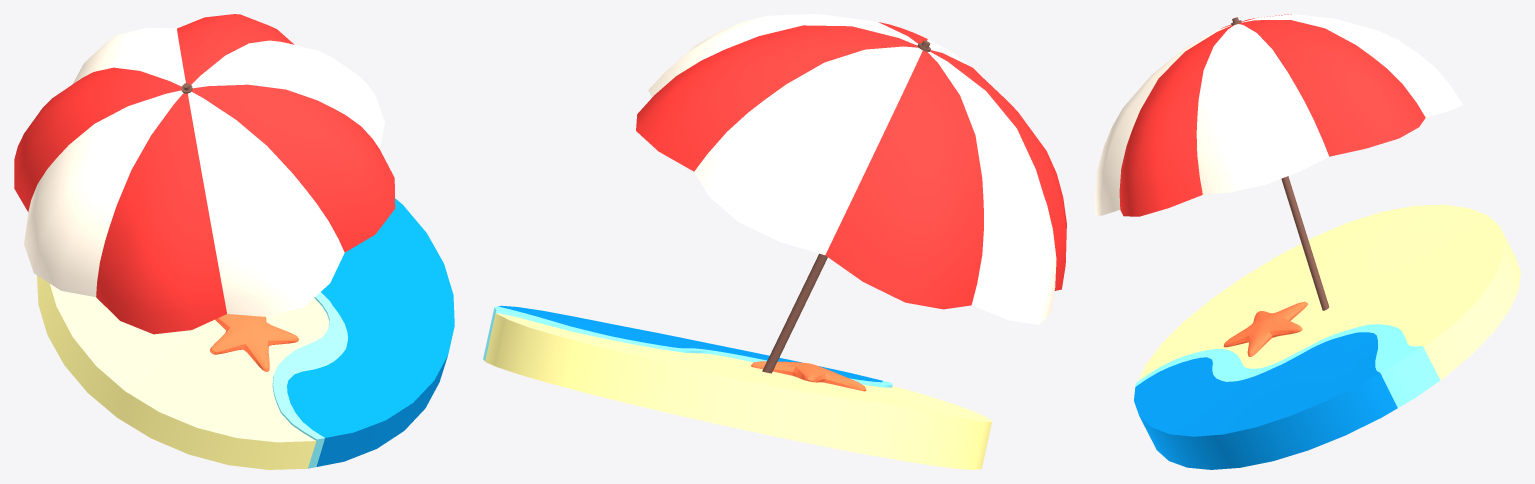
Rendered from beach_with_umbrella.glb.
3 views of the same model, side by side, from view 1: azimuth 30°, elevation 25°; view 2: azimuth 150°, elevation 25°; view 3: azimuth 270°, elevation 25° (orthographic). The views are drawn at different scales.
Visible parts, largest first — view 1: Circle.2332; view 2: Circle.2332; view 3: Circle.2332.
Boxes of the visible parts, left/top/right/bottom form: Circle.2332: left=14, top=14, right=454, bottom=469; Circle.2332: left=483, top=14, right=1066, bottom=469; Circle.2332: left=1095, top=14, right=1520, bottom=469.
Bounding box in the file's own units: 2.15 × 1.93 × 1.99.
1 material, 1 textured.
